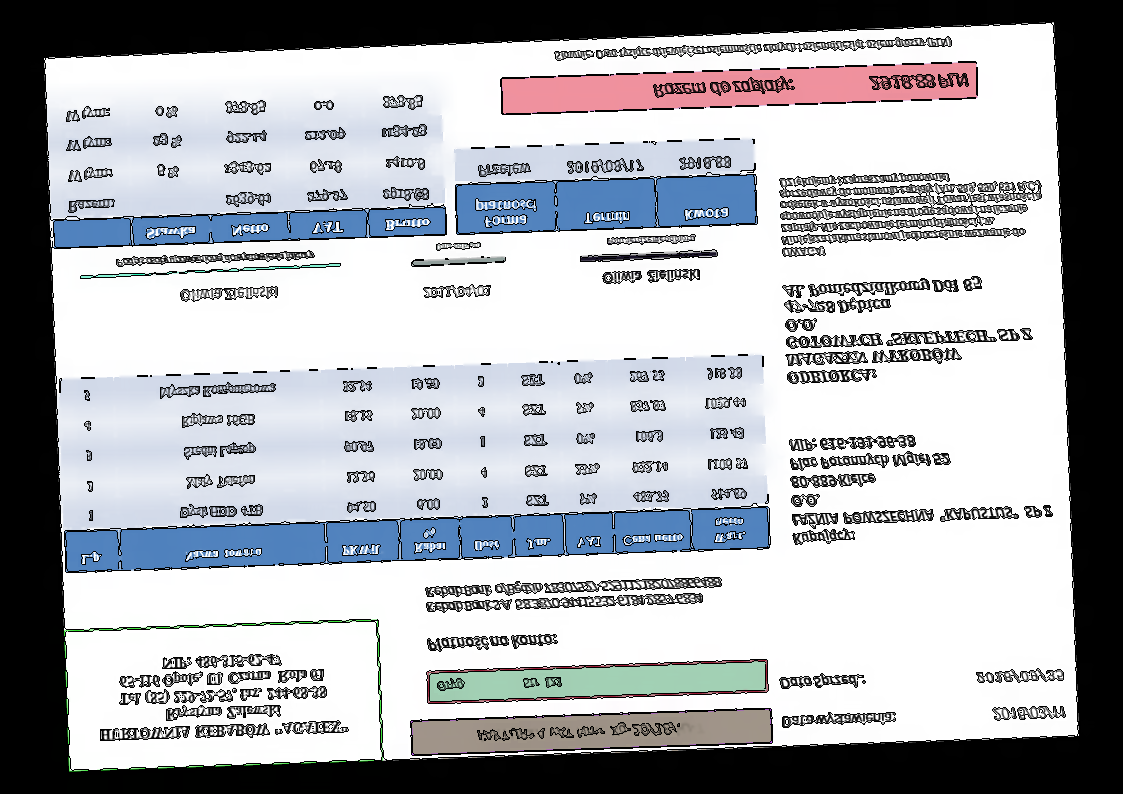Table: (57, 353, 772, 574), (47, 83, 447, 249), (452, 136, 758, 237)
TextBox: (786, 427, 1055, 548), (780, 272, 1036, 387), (93, 645, 352, 749), (778, 167, 1047, 261), (552, 33, 954, 67), (423, 574, 724, 617), (650, 69, 970, 103), (472, 719, 707, 745), (113, 247, 317, 270), (423, 630, 559, 654), (779, 706, 898, 732), (433, 673, 566, 696), (176, 283, 282, 306), (972, 665, 1066, 687), (599, 267, 702, 287), (778, 671, 868, 693), (603, 233, 698, 249), (991, 704, 1068, 723), (421, 281, 493, 301), (432, 241, 482, 253)
